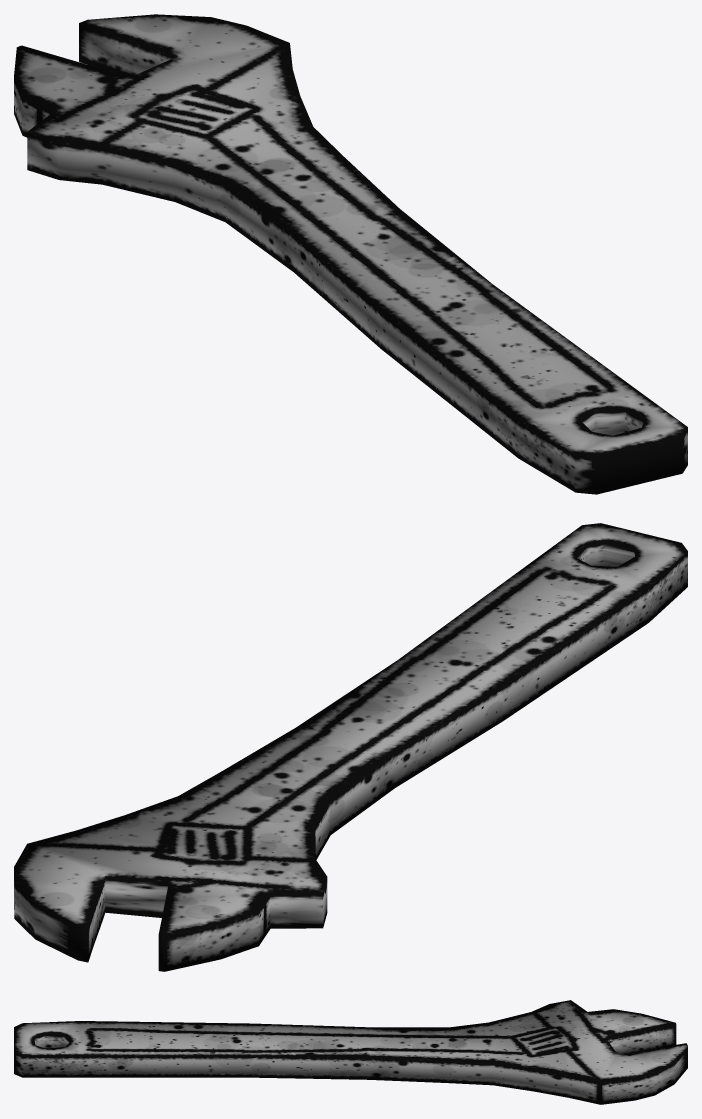
The model's file is wrench.obj.
The picture shows the model from 3 angles, top to bottom: view 1: azimuth 30°, elevation 25°; view 2: azimuth 150°, elevation 25°; view 3: azimuth 270°, elevation 25°; orthographic projection. The views are drawn at different scales.
Visible parts, largest first — view 1: wrench; view 2: wrench; view 3: wrench.
Part boxes in pixels (x1=…): wrench: x1=14, y1=14, x2=687, y2=494; wrench: x1=14, y1=523, x2=687, y2=971; wrench: x1=14, y1=1000, x2=687, y2=1104.
Bounding box in the file's own units: 1.43 × 0.1841 × 4.93.
